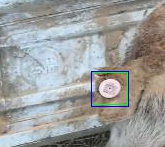text: (91, 72, 127, 104)
